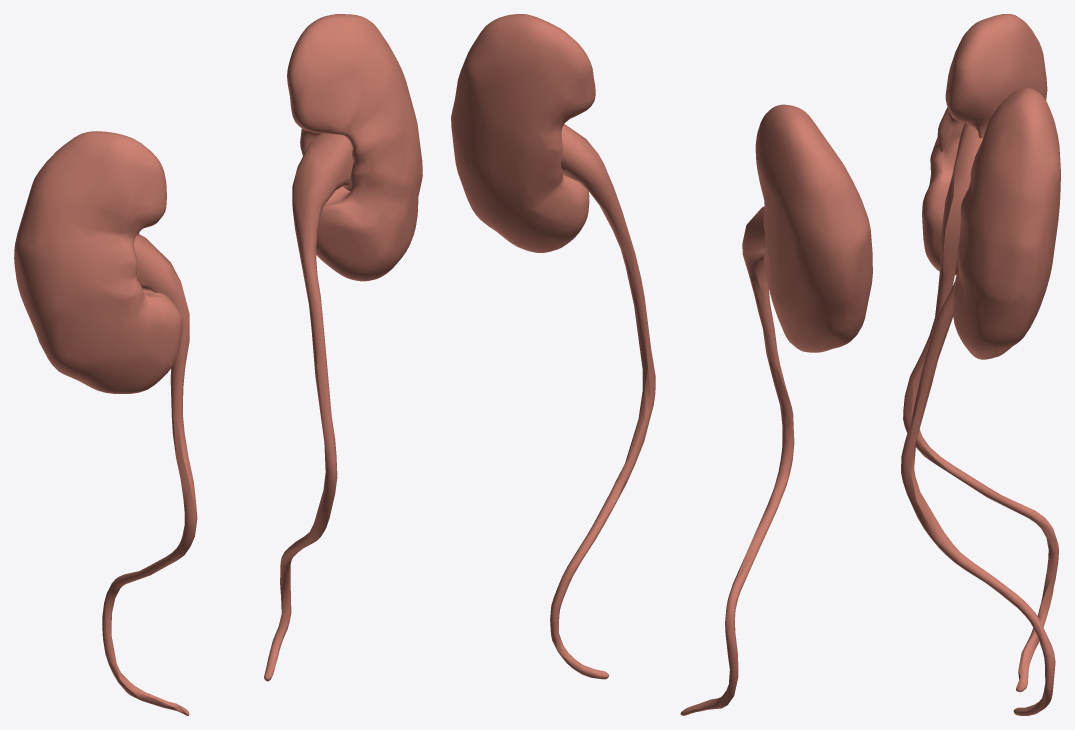
Rendered from urinary.abdomen.glb.
The picture shows the model from 3 angles, left to right: view 1: azimuth 30°, elevation 25°; view 2: azimuth 150°, elevation 25°; view 3: azimuth 270°, elevation 25°; orthographic projection. The views are drawn at different scales.
Visible parts, largest first — view 1: right_kidney, left_kidney, left_ureter, right_ureter; view 2: left_kidney, right_kidney, left_ureter, right_ureter; view 3: left_kidney, right_kidney, right_ureter, left_ureter.
Boxes of the visible parts, x1,y1,x2,y2 form: right_kidney: (14,131,182,393); left_kidney: (287,14,422,281); left_ureter: (264,133,353,681); right_ureter: (102,235,197,715); left_kidney: (451,14,595,252); right_kidney: (755,104,872,352); left_ureter: (550,124,655,679); right_ureter: (680,206,794,715); left_kidney: (953,88,1060,359); right_kidney: (922,14,1047,275); right_ureter: (903,123,1058,692); left_ureter: (901,282,1055,715).
Size of the model in its own units: 0.178 by 0.2792 by 0.0602.
